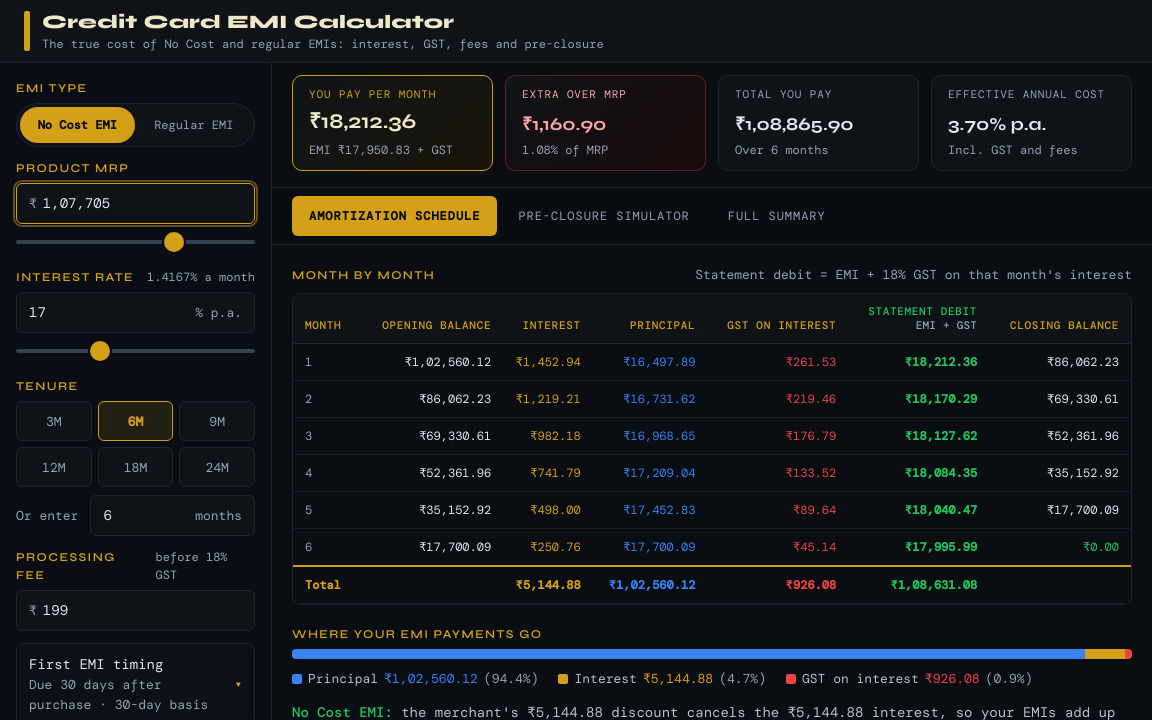
Scenario: number fields keep the user's draft › never accepts a negative or below-minimum MRP
This screenshot has width=1152, height=720.
Replace the text in the field named "Product MRP (₹)" with "-20000": (142, 204) [43,184,242,223]
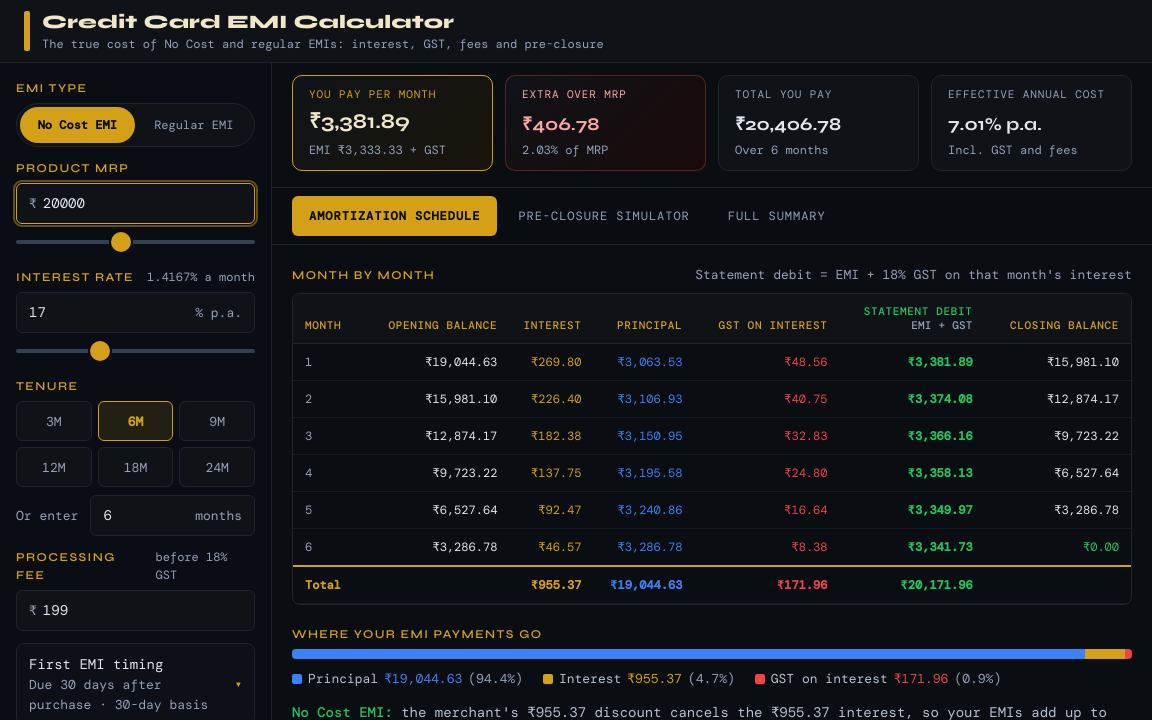
Result: the field named "Product MRP (₹)" holds "20000"
Replace the text in the field named "Product MRP (₹)" with "500": (142, 204) [43,184,242,223]
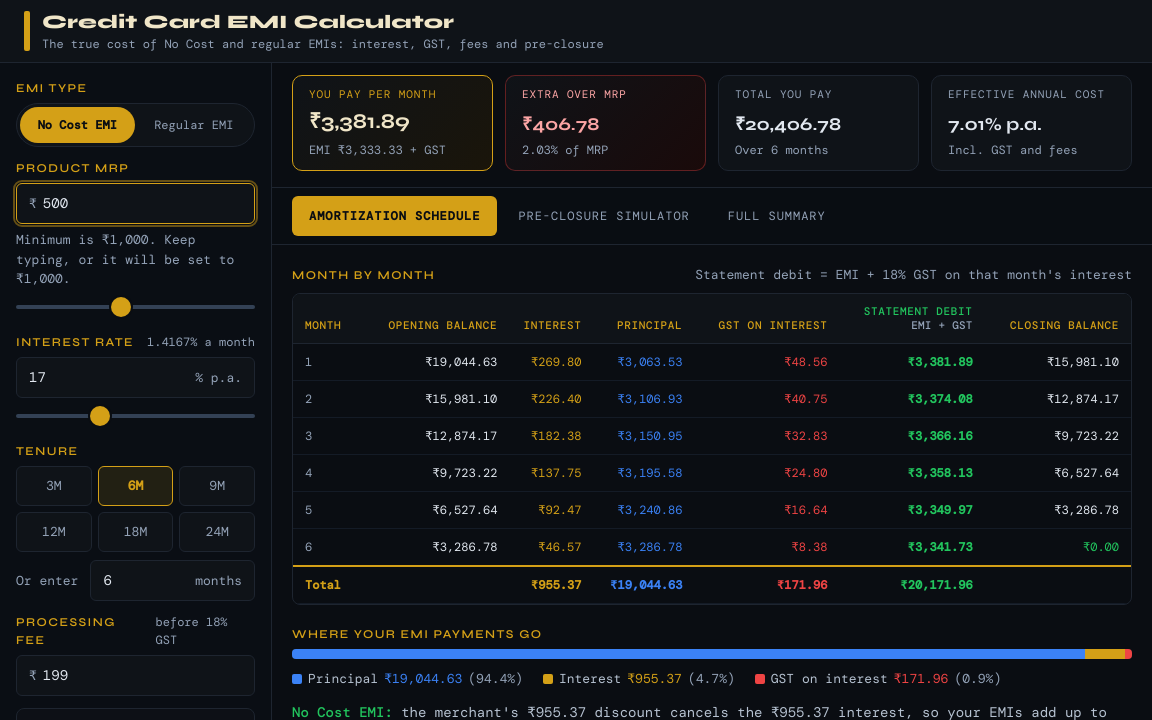
Leave the field named "Product MRP (₹)", box [43,184,242,223]
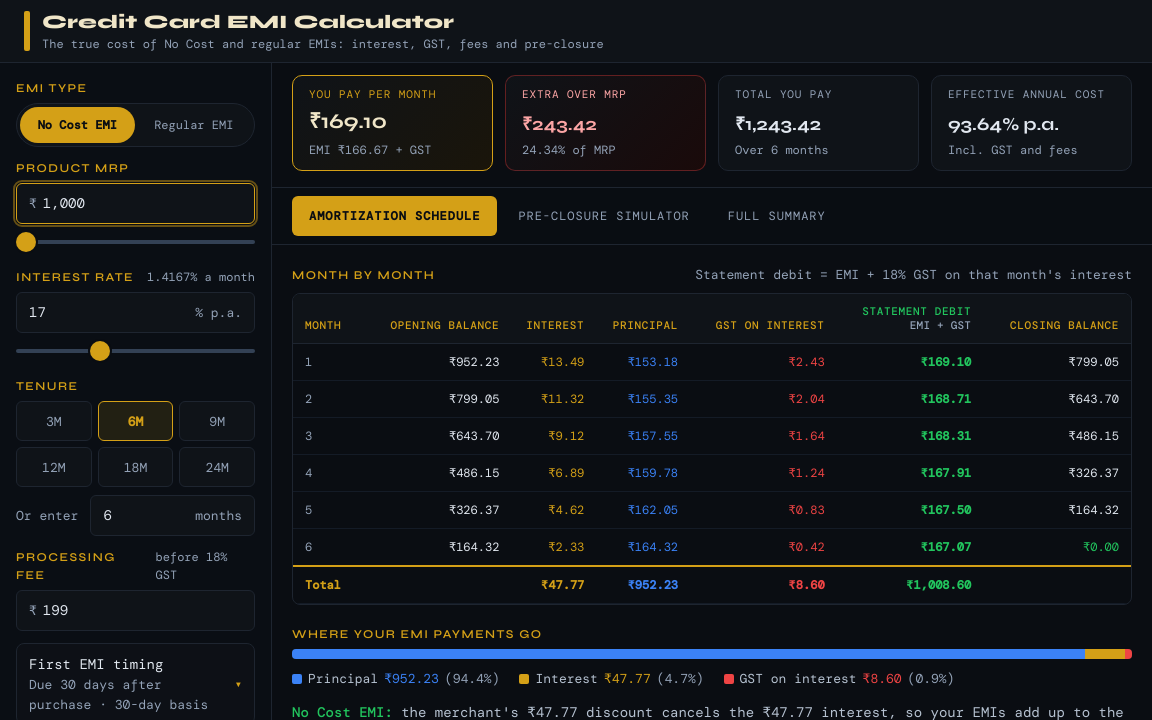
Result: the field named "Product MRP (₹)" holds "1,000" at [43,184,242,223]
